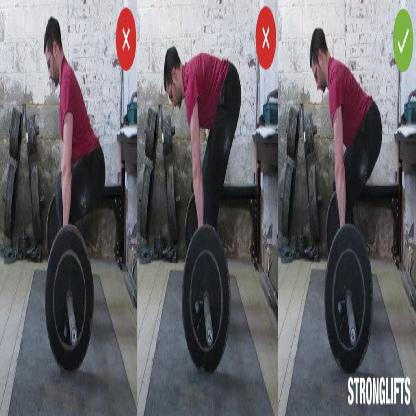Barbell: (177, 215, 234, 384), (42, 213, 97, 382), (323, 216, 374, 377)
